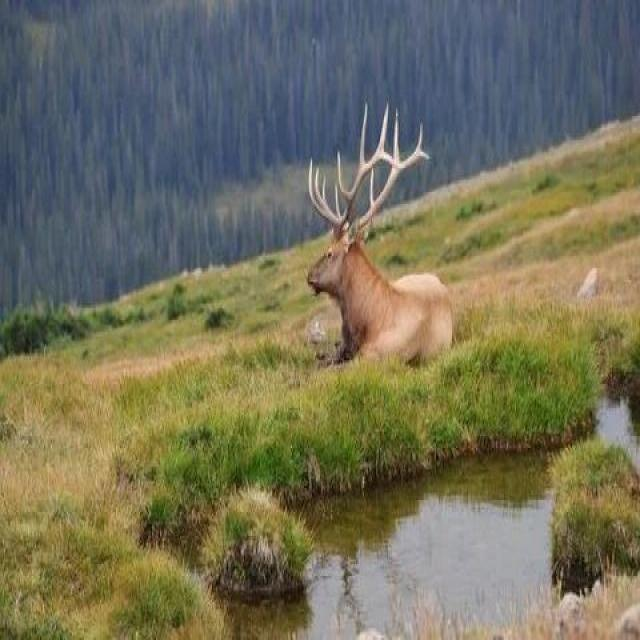deer: (268, 119, 500, 425)
